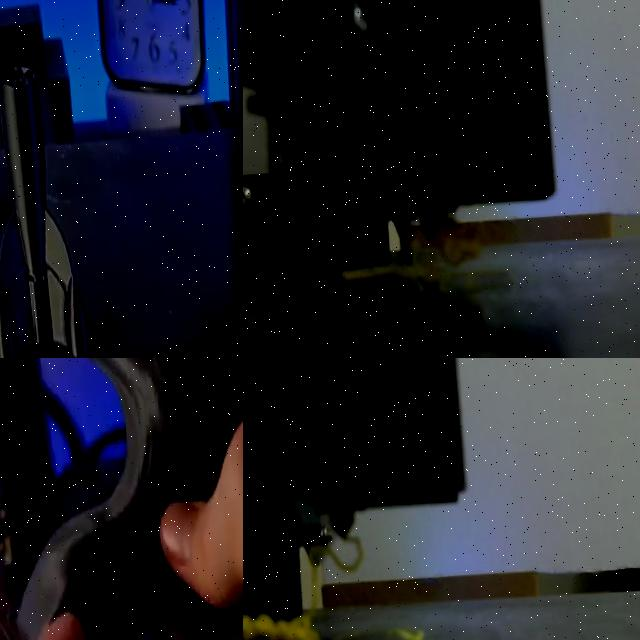spaghetti: (341, 212, 480, 289), (243, 611, 321, 640), (307, 543, 358, 569)
